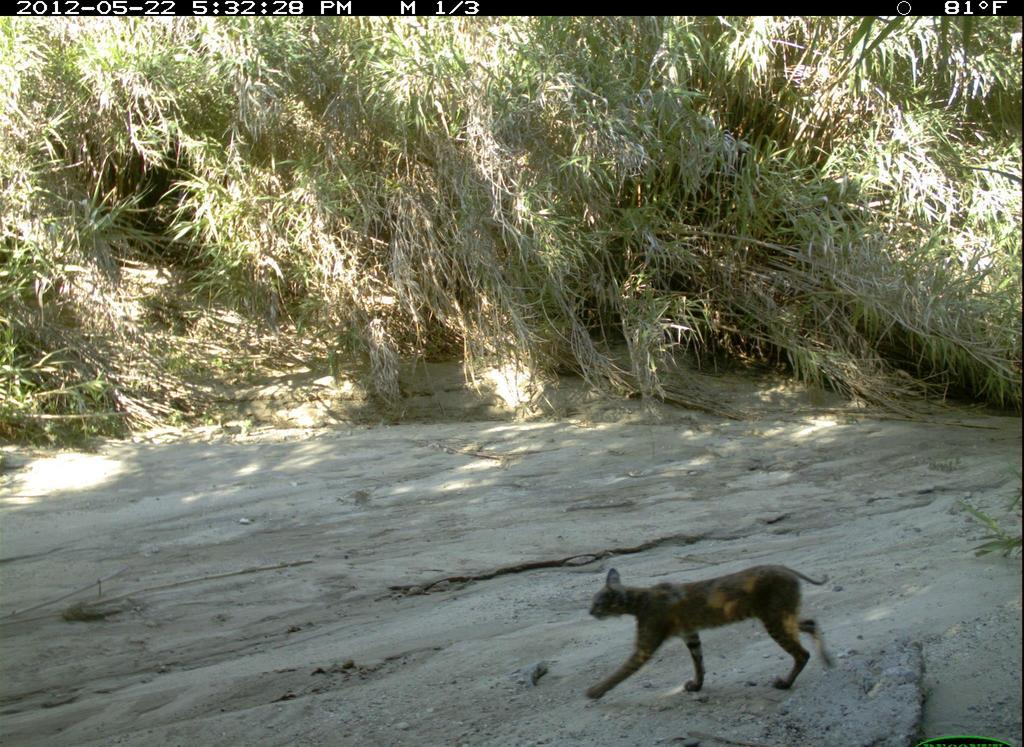bobcat: (573, 561, 841, 713)
